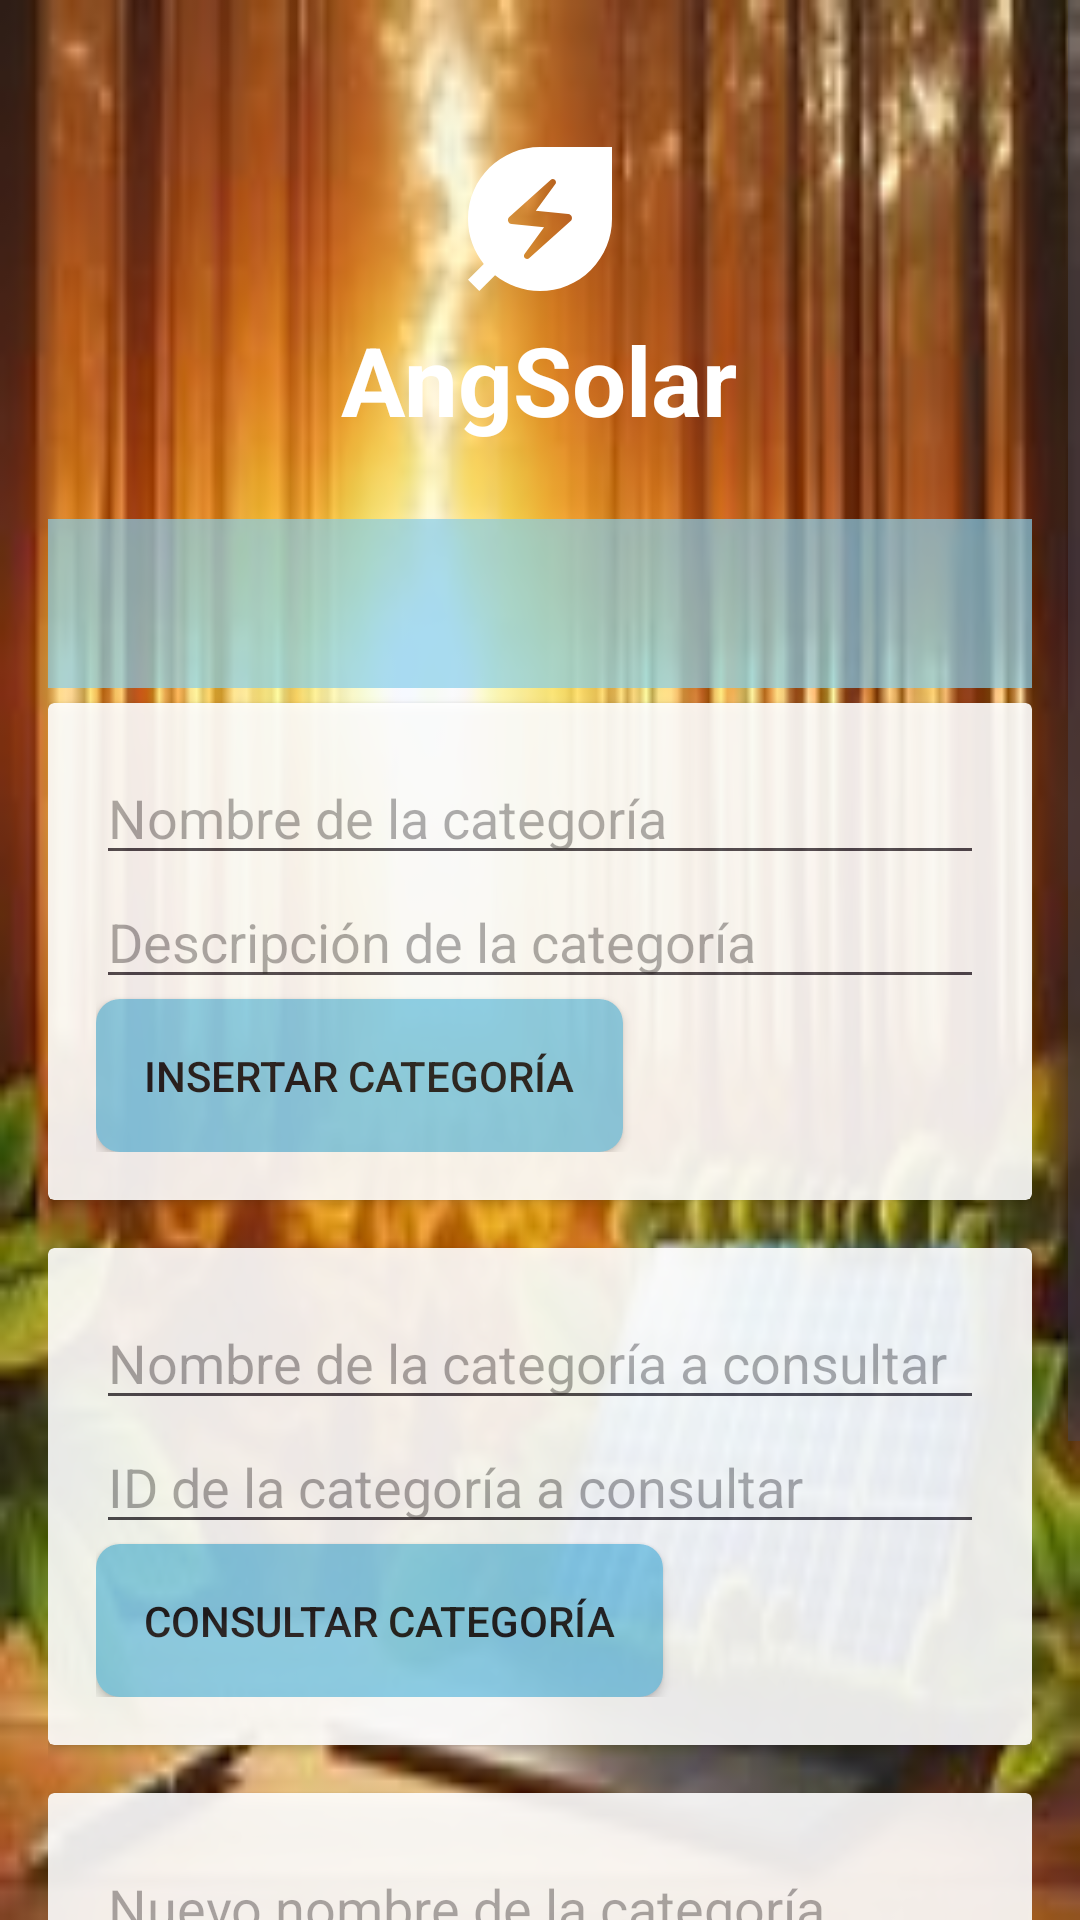

Named icons in this screenshot (1080 × 1920) and their centers, point (x, y):
energy: point (540, 219)
